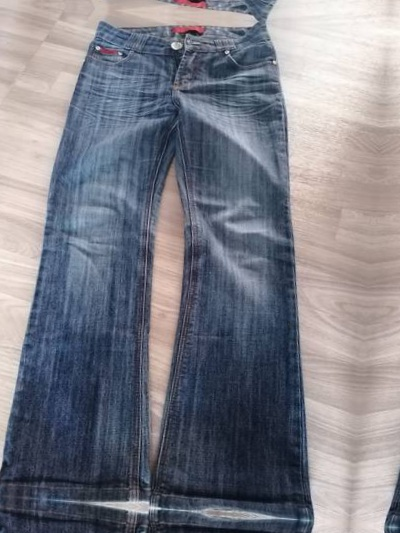Pants: (9, 13, 364, 521), (374, 42, 400, 533), (0, 498, 325, 533), (50, 0, 400, 21), (335, 527, 400, 533)
